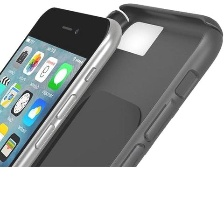phone: (0, 4, 126, 202)
